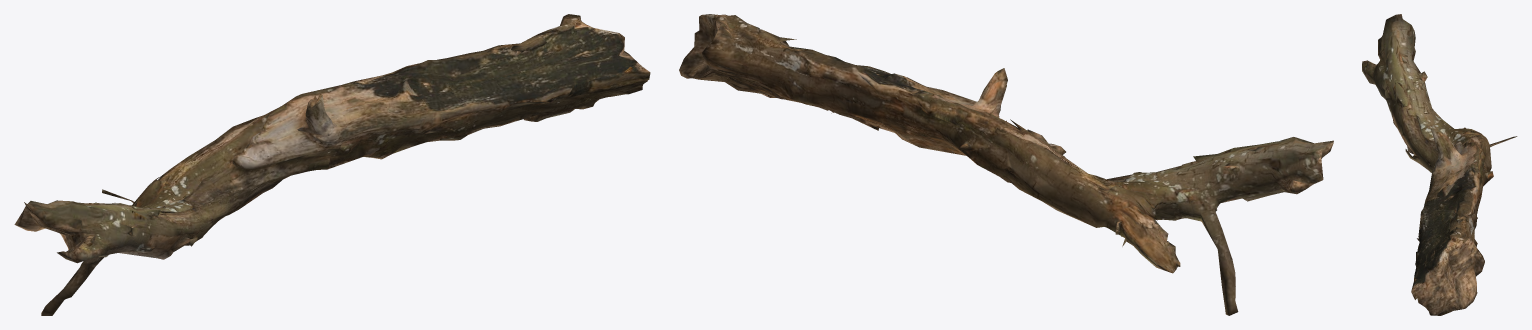
The picture shows the model from 3 angles, left to right: view 1: azimuth 30°, elevation 25°; view 2: azimuth 150°, elevation 25°; view 3: azimuth 270°, elevation 25°; orthographic projection. The views are drawn at different scales.
Visible parts, largest first — view 1: dead_tree_trunk_02_lod1; view 2: dead_tree_trunk_02_lod1; view 3: dead_tree_trunk_02_lod1.
Part boxes in pixels (x1,y1,x2,y2): dead_tree_trunk_02_lod1: (14, 14, 650, 315); dead_tree_trunk_02_lod1: (679, 14, 1333, 315); dead_tree_trunk_02_lod1: (1362, 14, 1517, 315).
Size of the model in its own units: 4.02 by 1.05 by 1.04.
1 material, 1 textured.
